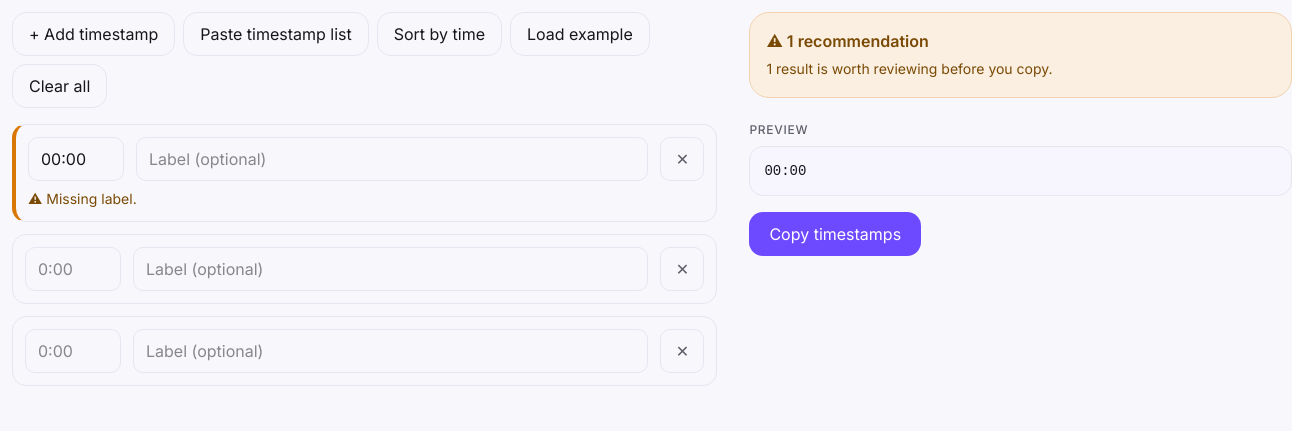
Test: YoutubeTimestampGenerator › edits a row's time and label
Type "1:35" into the 1st field with placeholder "0:00".
click(73, 269); type("1:35")  # box [25,247,121,291]
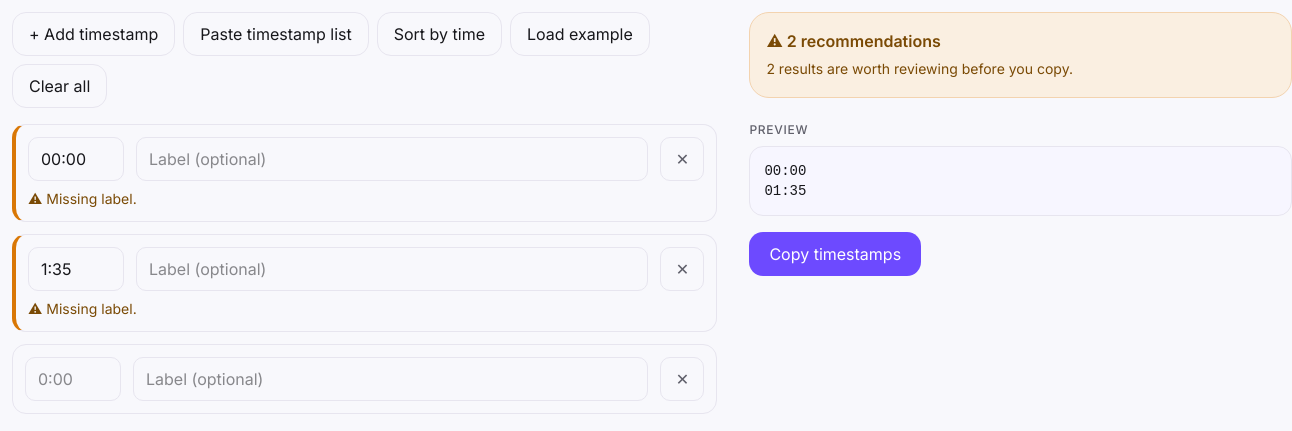
Type "What you'll learn" into the 2nd field with placeholder "Label (optional)".
click(392, 269); type("What you'll learn")  # box [136,247,648,291]
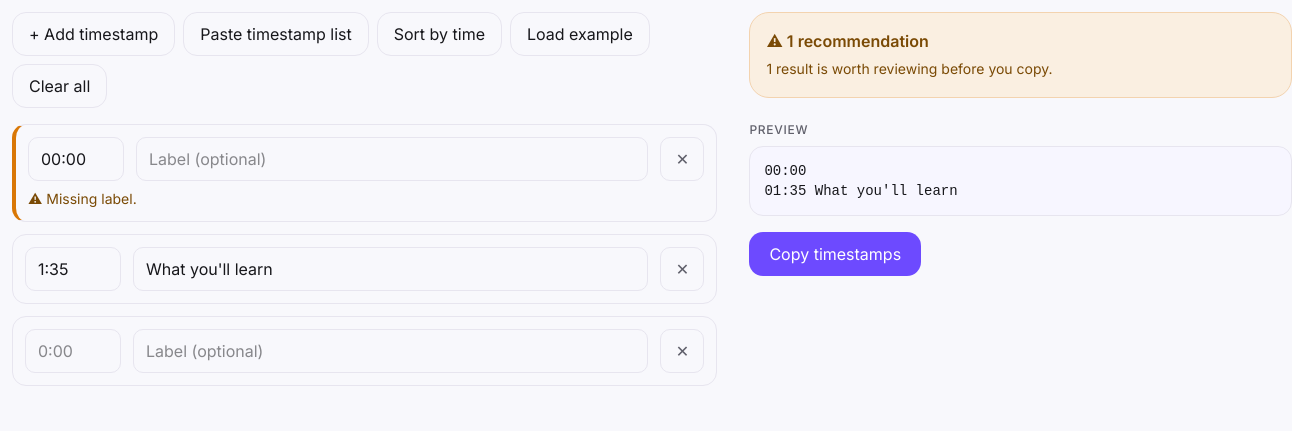
Now the text "00:00 01:35 What you'll learn" is shown, box [749,146,1291,216]
